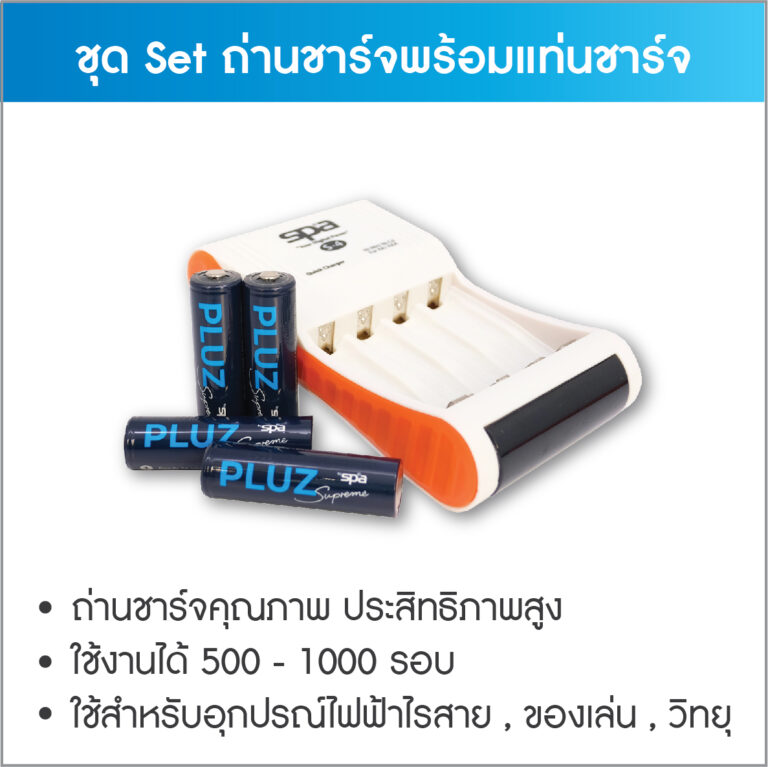Battery: (198, 439, 407, 525), (120, 411, 315, 473), (242, 267, 301, 413), (187, 268, 240, 418)
